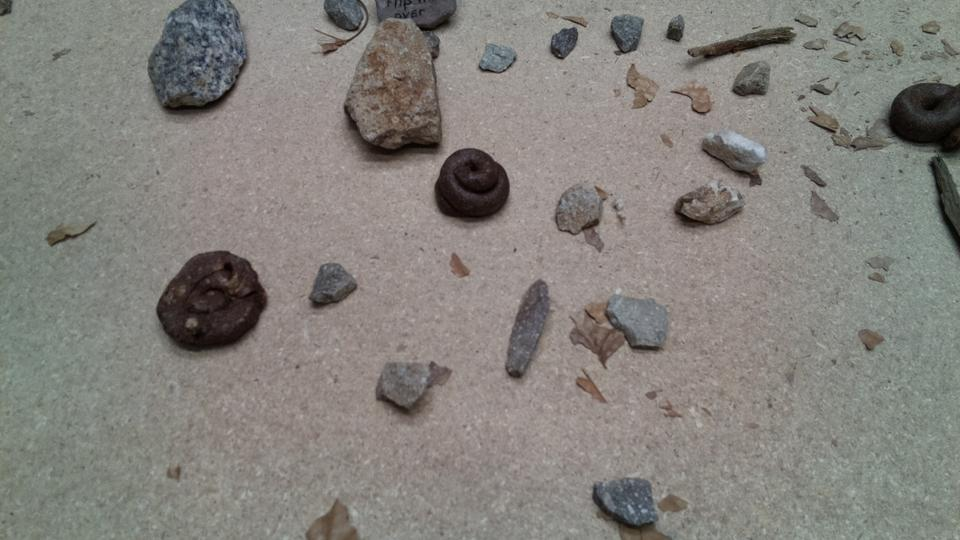poop: (155, 249, 269, 353), (433, 146, 511, 223), (885, 80, 960, 156)
